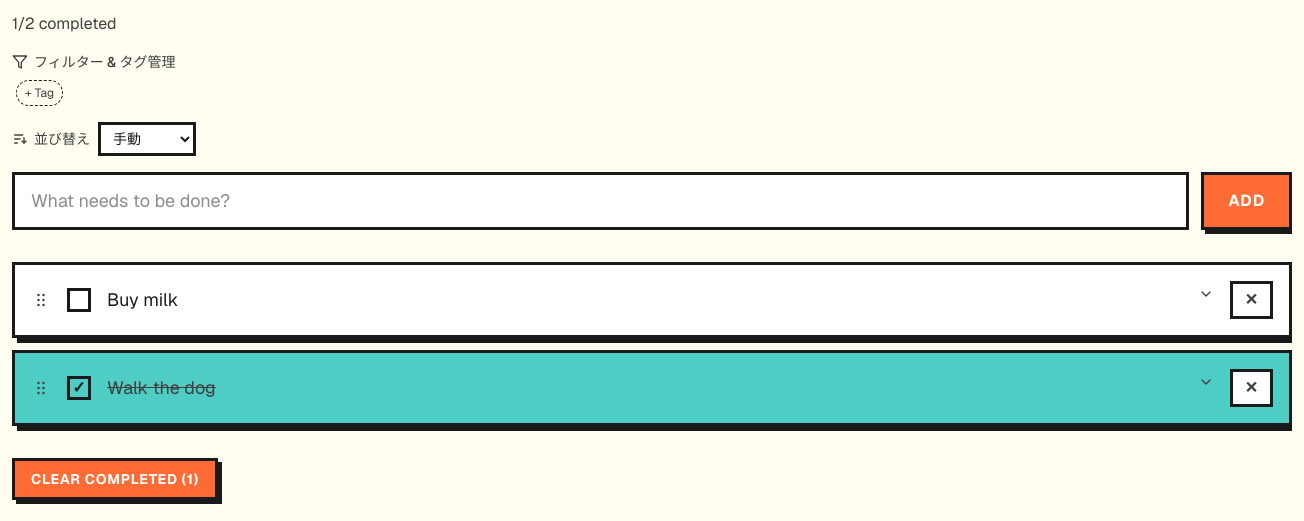
it: TodoSection › can toggle a todo
Check: the text "Buy milk" is shown, box [107,288,178,311]
Step 1. Click the 1st checkbox → (79, 300), box [67,288,91,312]
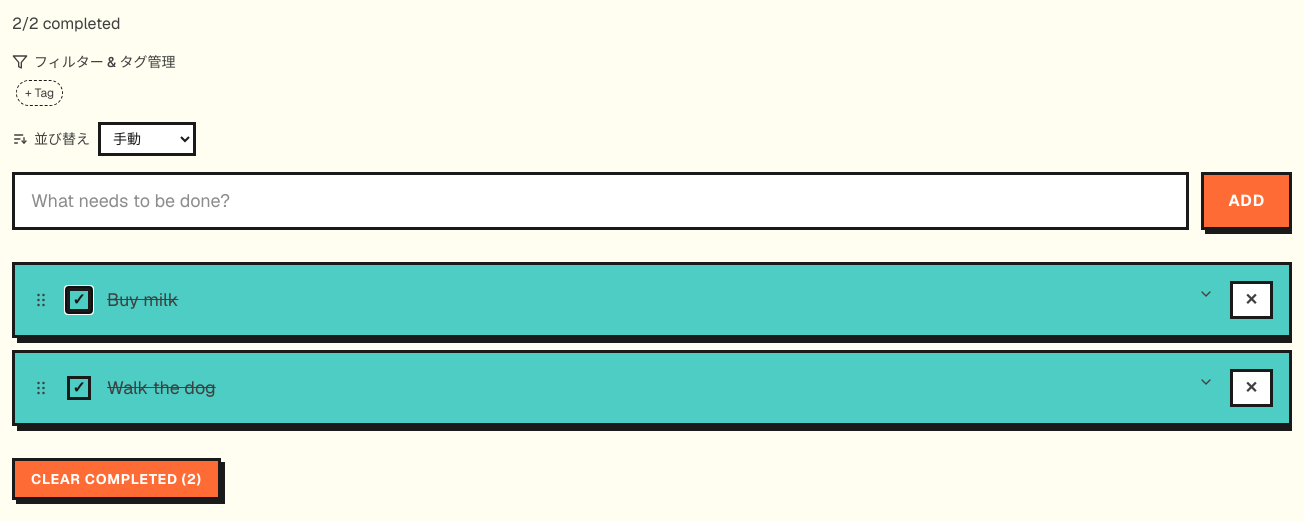
Check: the text "2/2 completed" is shown, box [12,13,120,34]
